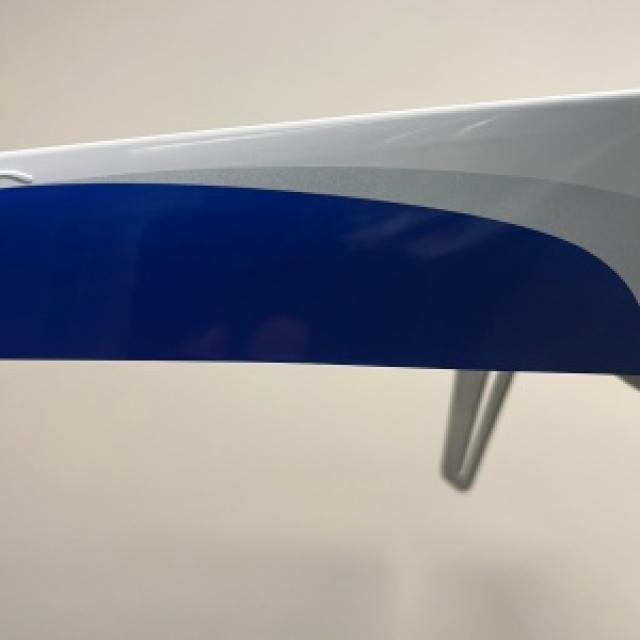healthy: (0, 90, 638, 484)
